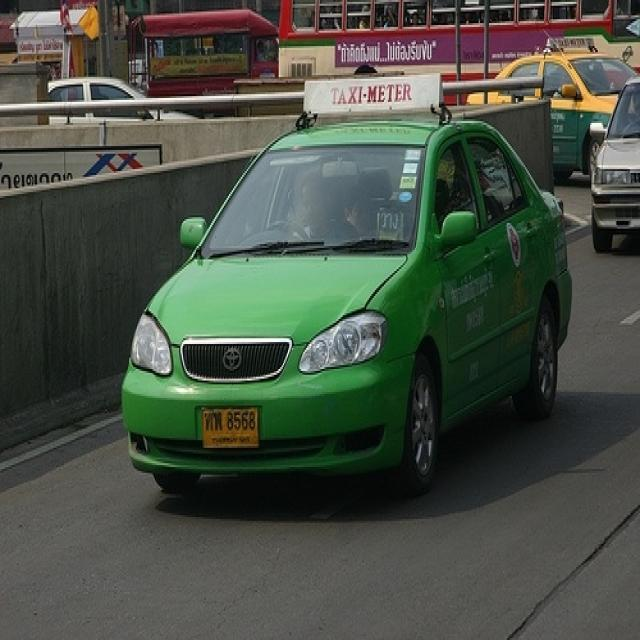plate: (198, 409, 260, 448)
